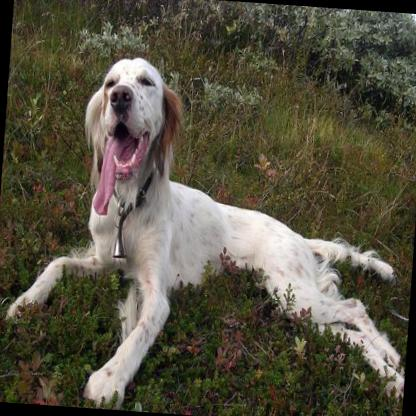English_setter: (0, 44, 416, 416)
